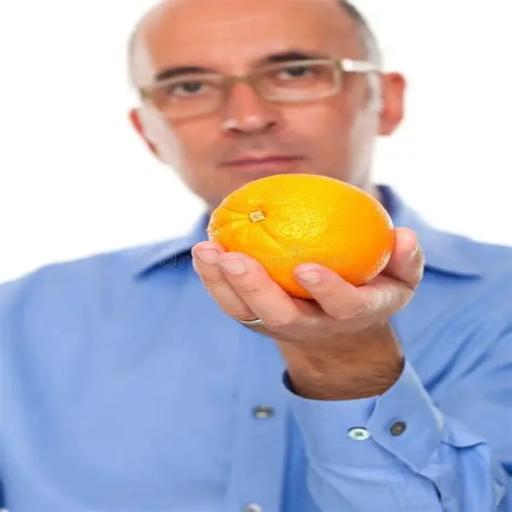orange: (208, 174, 395, 298)
